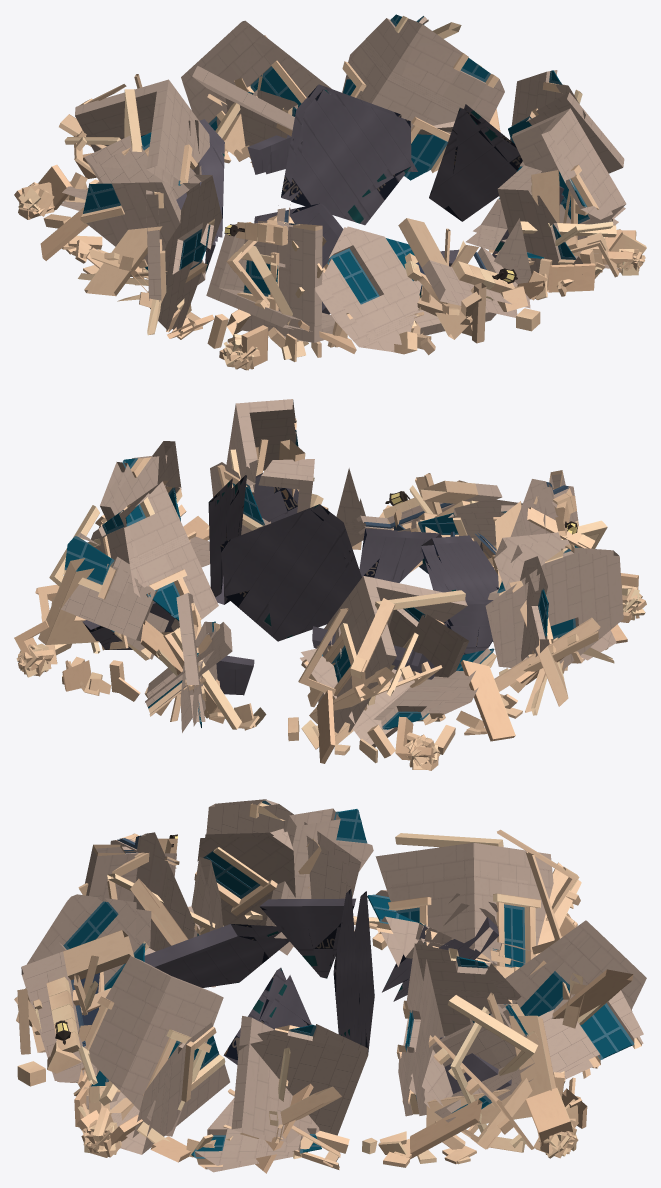
The model's file is houdini_police_station_pieces.glb.
3 views of the same model, one above another, from view 1: azimuth 30°, elevation 25°; view 2: azimuth 150°, elevation 25°; view 3: azimuth 270°, elevation 25° (orthographic). The views are drawn at different scales.
Parts seen in each view (by area): view 1: LOD0; view 2: LOD0; view 3: LOD0.
Boxes of the visible parts, bbox=[...] form: LOD0: bbox=[14, 14, 646, 370]; LOD0: bbox=[14, 399, 646, 770]; LOD0: bbox=[14, 799, 646, 1173].
Bounding box in the file's own units: 17.02 × 5 × 16.48.
4 materials, 4 textured.
